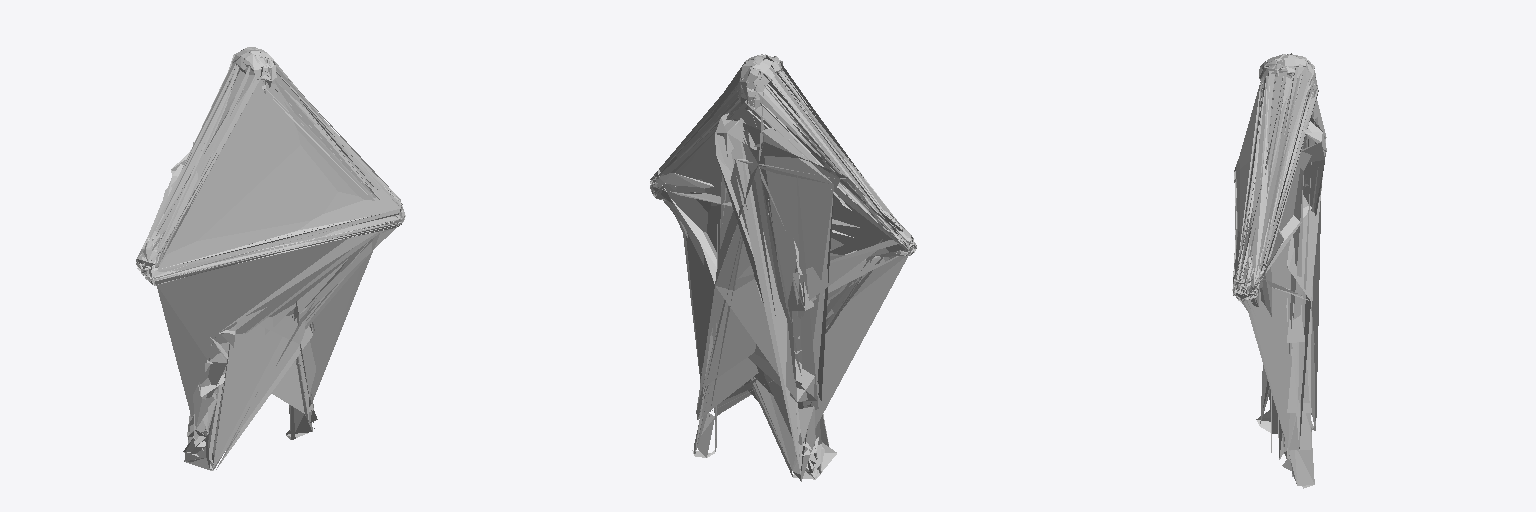
Rendered from snake.obj.
3 renders of one model, left to right at view 1: azimuth 30°, elevation 25°; view 2: azimuth 150°, elevation 25°; view 3: azimuth 270°, elevation 25°, orthographic.
Parts seen in each view (by area): view 1: Model001_5_rdmobj00, Model001_5_09-Default; view 2: Model001_5_rdmobj00, Model001_5_09-Default, Model001_7_08-Default; view 3: Model001_5_rdmobj00, Model001_5_09-Default.
Boxes of the visible parts, x1,y1,x2,y2 form: Model001_5_rdmobj00: [136, 47, 405, 470]; Model001_5_09-Default: [136, 47, 402, 285]; Model001_5_rdmobj00: [650, 55, 916, 481]; Model001_5_09-Default: [650, 54, 916, 255]; Model001_7_08-Default: [737, 56, 781, 109]; Model001_5_rdmobj00: [1232, 54, 1326, 488]; Model001_5_09-Default: [1232, 54, 1318, 299].
Size of the model in its own units: 1.82 by 2.68 by 0.5743.